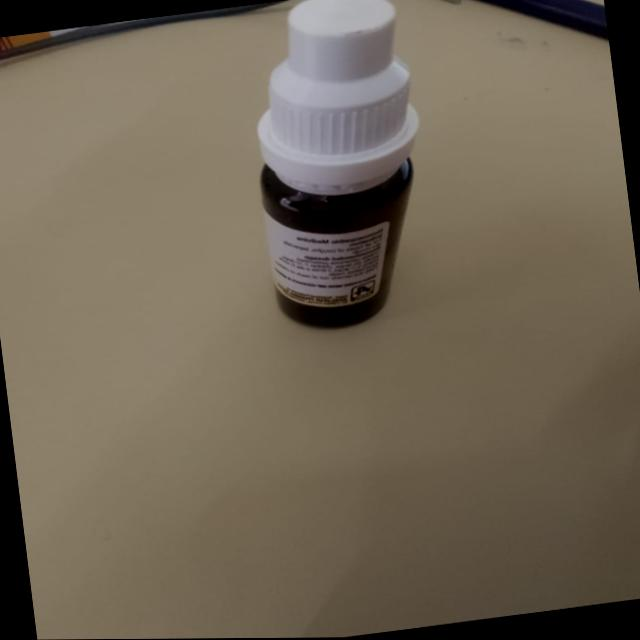medicine: (186, 0, 468, 343)
